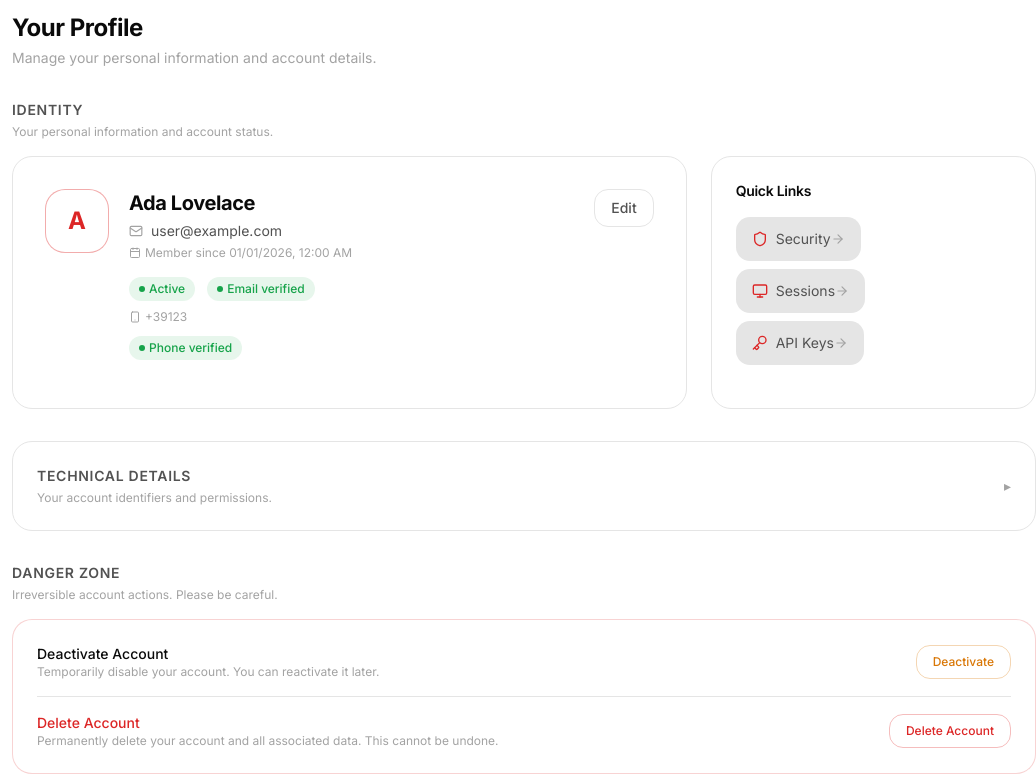
it: ProfilePage › falls back to a generic error for non-Error save failures
The image size is (1036, 780).
What coordinates should you click on to do the following:
click the button "Edit"
I would click on:
 (624, 208)
Its box is [594,189,654,227].
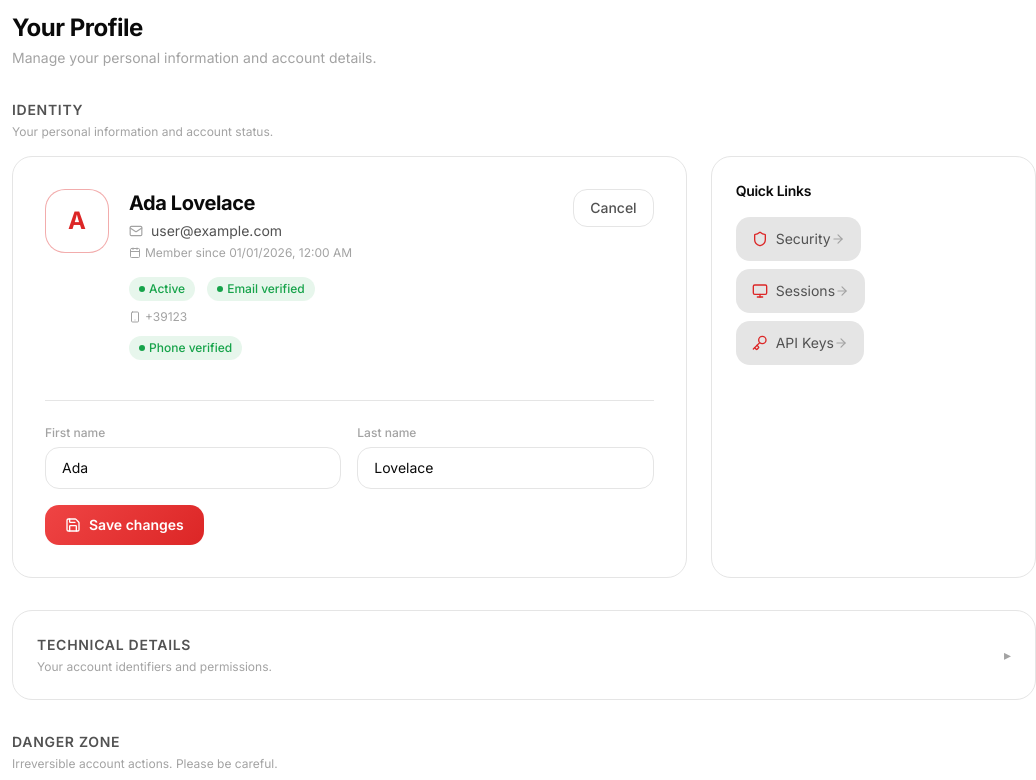
What coordinates should you click on to do the following:
click the button "Save changes"
I would click on:
 (124, 525)
Its box is [45,505,204,545].
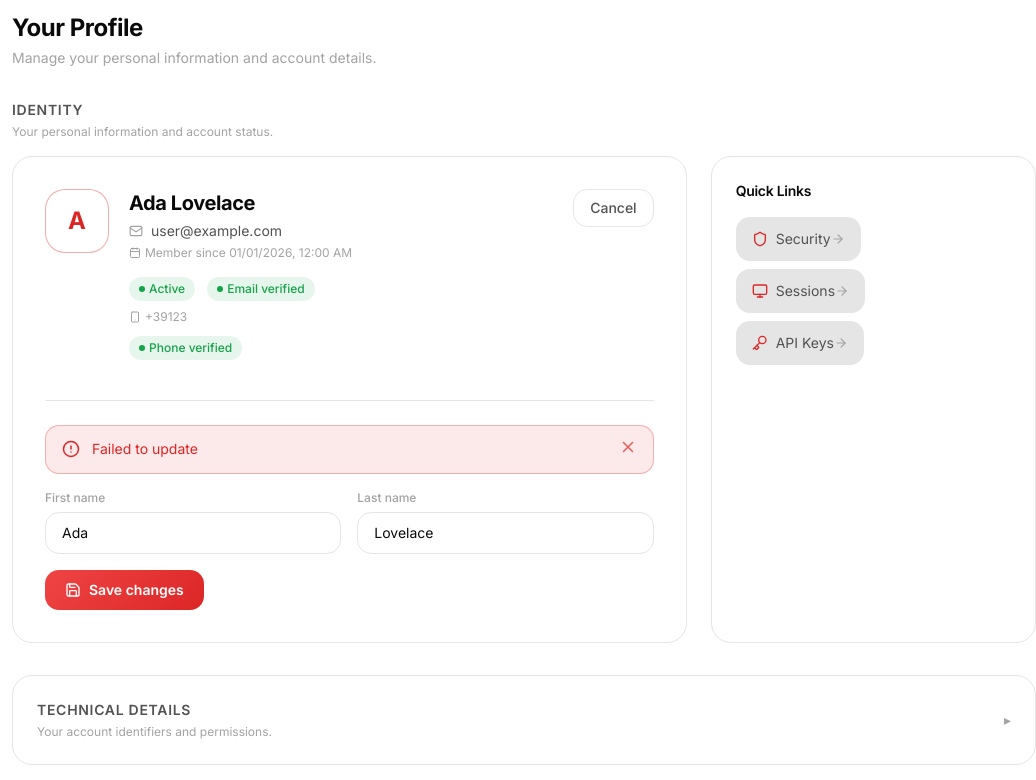
Now the text "Failed to update" is shown, box [92,440,198,457]
